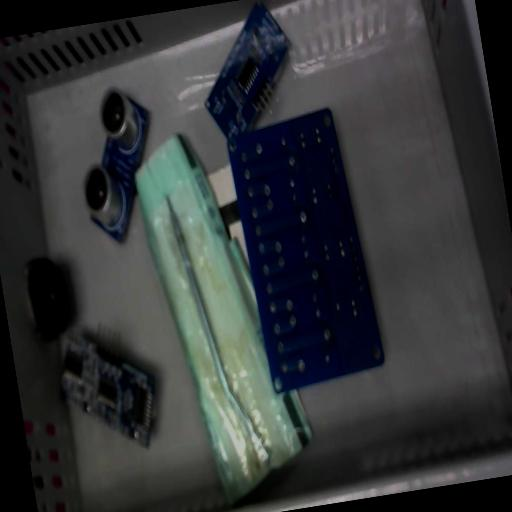relay_module: (224, 104, 388, 396)
triple_syringe: (127, 116, 321, 512)
ultrasonic_hc-sr04: (66, 82, 170, 248), (202, 0, 291, 144), (57, 325, 152, 457)
